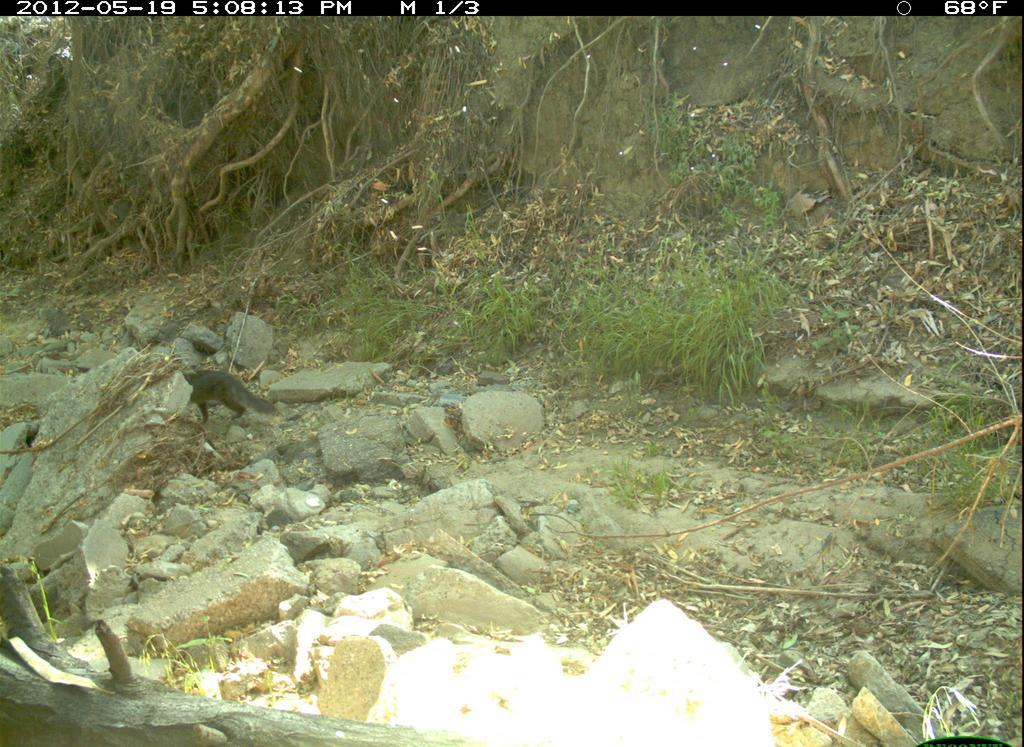cat: (172, 353, 289, 440)
